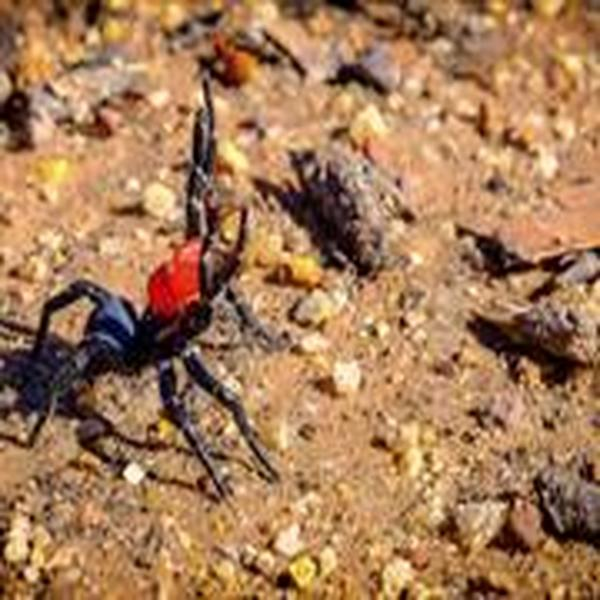Red Headed Mouse Spider: (40, 86, 280, 488)
